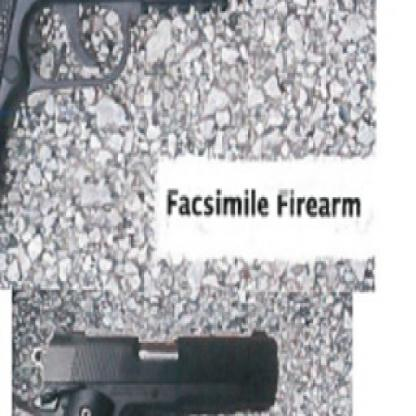gun: (0, 0, 275, 289), (22, 303, 284, 414)
